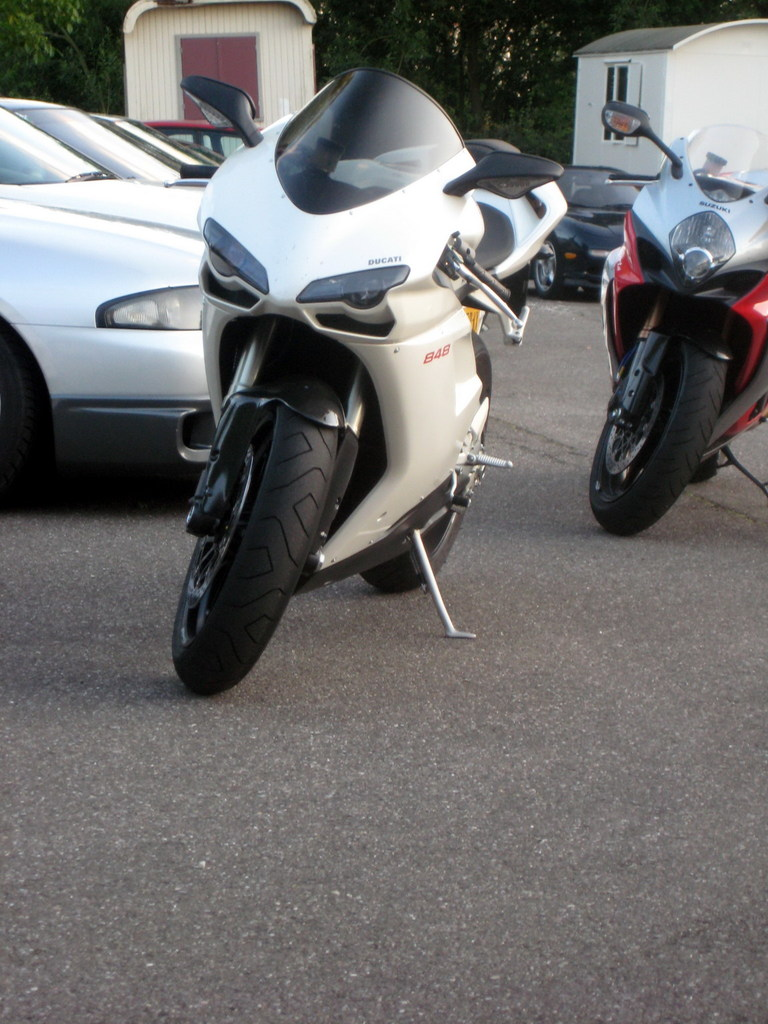Car: (0, 93, 663, 506), (0, 94, 218, 472), (511, 161, 648, 290), (92, 103, 218, 173), (145, 113, 244, 161)
